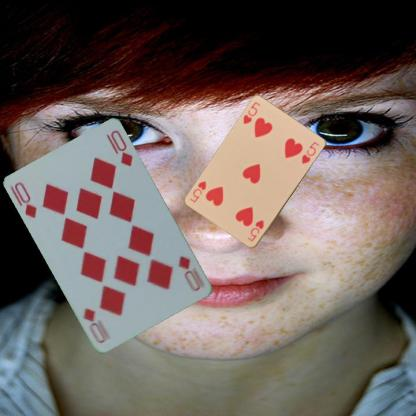10d: (8, 178, 39, 220), (176, 253, 206, 293)
5h: (240, 99, 262, 126), (245, 217, 265, 243)
